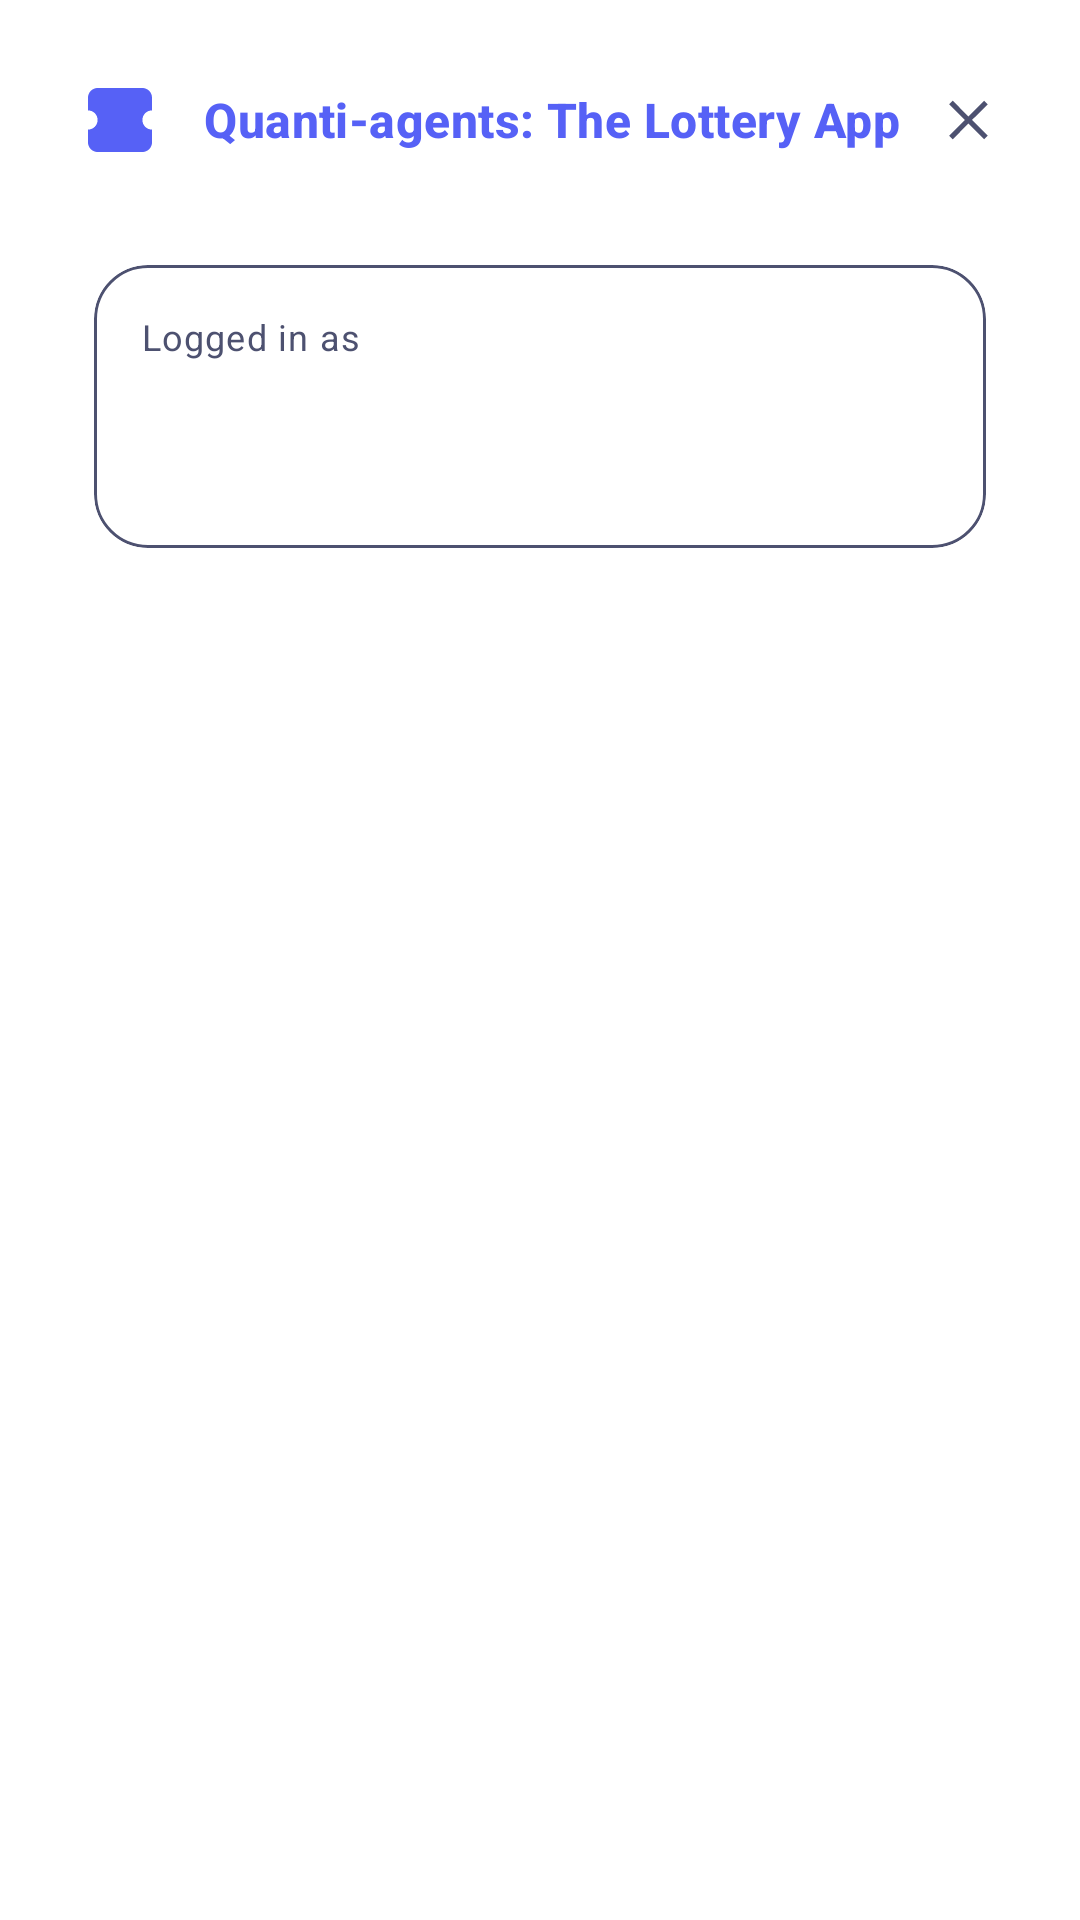

Named icons in this screenshot (1080 × 1920) and their bounding boxes, detection(x1, y1, x2, y2):
Close drawer: detection(949, 101, 988, 139)
